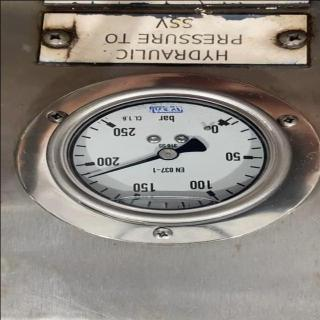gauge: (7, 75, 317, 245), (96, 111, 128, 138), (212, 114, 237, 132), (156, 148, 179, 160), (86, 173, 96, 180)
